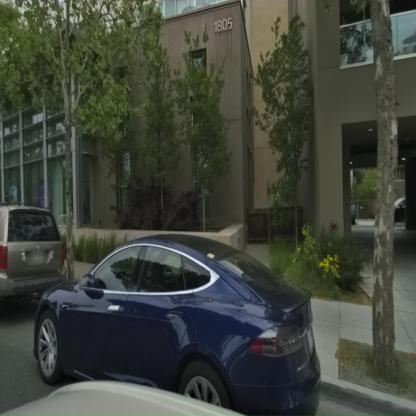car: (16, 238, 322, 415), (1, 204, 70, 316)
